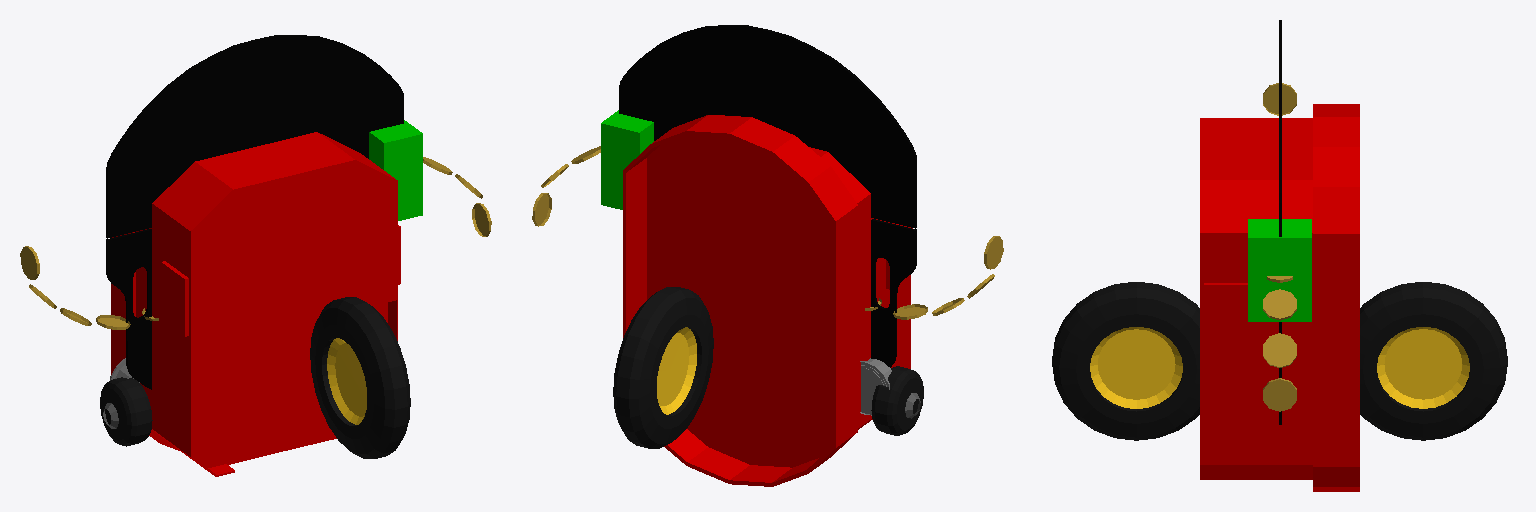
--- Facts derived from the render (not from the file) ---
The picture shows the robot from 3 angles, left to right: view 1: azimuth 30°, elevation 25°; view 2: azimuth 150°, elevation 25°; view 3: azimuth 270°, elevation 25°; orthographic projection.
Robot: pioneer3dx — 14 links, 13 joints (4 continuous, 9 fixed); root link base_link; default pose: every joint at zero.
Visible links, largest first — view 1: chassis, top_plate, right_wheel, camera_link, center_wheel, right_hub, front_sonar, back_sonar; view 2: chassis, top_plate, left_wheel, camera_link, center_wheel, left_hub, front_sonar, swivel, back_sonar; view 3: chassis, left_wheel, right_wheel, right_hub, left_hub, camera_link, back_sonar, front_sonar, top_plate.
Boxes of the visible links, <box> form: chassis: <box>111,132,400,476</box>; top_plate: <box>106,35,403,389</box>; right_wheel: <box>310,297,410,458</box>; camera_link: <box>369,120,422,220</box>; center_wheel: <box>100,377,152,446</box>; right_hub: <box>327,338,366,424</box>; front_sonar: <box>20,246,158,329</box>; back_sonar: <box>423,157,491,236</box>; chassis: <box>623,115,912,486</box>; top_plate: <box>619,25,916,367</box>; left_wheel: <box>613,287,713,448</box>; camera_link: <box>601,110,653,209</box>; center_wheel: <box>871,366,923,435</box>; left_hub: <box>657,327,696,414</box>; front_sonar: <box>865,236,1003,319</box>; swivel: <box>860,358,891,415</box>; back_sonar: <box>532,146,600,226</box>; chassis: <box>1200,104,1359,491</box>; left_wheel: <box>1360,282,1507,440</box>; right_wheel: <box>1052,282,1199,440</box>; right_hub: <box>1090,327,1182,408</box>; left_hub: <box>1377,327,1469,408</box>; camera_link: <box>1248,219,1311,321</box>; back_sonar: <box>1263,276,1296,411</box>; front_sonar: <box>1263,83,1296,115</box>; top_plate: <box>1279,20,1281,424</box>.
Bounding box of the posed robot: 0.5828 × 0.4925 × 0.522 m (x, y, z).
11 mesh visuals loaded from 12 distinct referenced files (11 OBJ); not drawn: 1 (reference not matched to a file when rendering).

URDF robot description (pioneer3dx):
<?xml version="1.0" ?><!-- =================================================================================== --><!-- |    This document was autogenerated by xacro from [local-path]/unity_ws/install/pioneer_description/share/pioneer_description/urdf/pioneer3dx.xacro | --><!-- |    EDITING THIS FILE BY HAND IS NOT RECOMMENDED                                 | --><!-- =================================================================================== --><!-- Adapted from the p2os package, see http://wiki.ros.org/p2os --><!-- Git repository at https://github.com/allenh1/p2os -->
<robot name="pioneer3dx" xmlns:controller="http://playerstage.sourceforge.net/gazebo/xmlschema/#controller"
       xmlns:interface="http://playerstage.sourceforge.net/gazebo/xmlschema/#interface"
       xmlns:sensor="http://playerstage.sourceforge.net/gazebo/xmlschema/#sensor">  <!--<include filename="$(find pioneer_description)/defs/materials.xacro"/>-->
    <material
            name="ChassisRed">
        <color rgba="0.851 0.0 0.0 1.0"/>
    </material>
    <material name="SonarYellow">
        <color
                rgba="0.715 0.583 0.210 1.0"/>
    </material>
    <material name="WheelBlack">
        <color
                rgba="0.117 0.117 0.117 1.0"/>
    </material>
    <material name="HubcapYellow">
        <color
                rgba="1.0 0.811 0.151 1.0"/>
    </material>
    <material name="TopBlack">
        <color
                rgba="0.038 0.038 0.038 1.0"/>
    </material>
    <material name="swivel">
        <color
                rgba="0.5 0.5 0.5 1"/>
    </material>
    <material name="HubcapGrey">
        <color
                rgba="0.4 0.4 0.4 1"/>
    </material>
    <material name="CameraGreen">
        <color
                rgba="0.0 0.8 0.0 1.0"/>
    </material>  <!-- ros_control plugin -->  <!--<gazebo>    <plugin name="differential_drive_controller" filename="libDiffDrivePlugin.so">      <updateRate>100.0</updateRate>      <robotNamespace>pioneer</robotNamespace>      <left_joint>base_left_wheel_joint</left_joint>      <right_joint>base_right_wheel_joint</right_joint>      <torque>200</torque>      <topicName>cmd_vel</topicName>    </plugin>  </gazebo>-->  <!-- START: Not sure if I need this, may allow for rosservice calls to gazebo joint manager -->
    <gazebo>
        <plugin filename="libgazebo_ros_control.so" name="gazebo_ros_control">
            <robotSimType>
                gazebo_ros_control/DefaultRobotHWSim
            </robotSimType>
            <legacyModeNS>true</legacyModeNS>
        </plugin>
    </gazebo>  <!-- END: Not sure if I need this -->
    <gazebo>
        <plugin filename=
                        "libgazebo_ros_diff_drive.so" name="differential_drive_controller">
            <alwaysOn>true</alwaysOn>
            <updateRate>100</updateRate>
            <leftJoint>base_left_wheel_joint</leftJoint>
            <rightJoint>base_right_wheel_joint</rightJoint>
            <torque>5</torque>
            <wheelSeparation>0.39</wheelSeparation>
            <wheelDiameter>0.15</wheelDiameter>
            <commandTopic>pioneer/cmd_vel</commandTopic>
            <odometryTopic>odom</odometryTopic>
            <odometryFrame>odom</odometryFrame>
            <robotBaseFrame>base_link</robotBaseFrame>
            <publishWheelTF>true</publishWheelTF>
            <publishWheelJointState>true</publishWheelJointState>
            <wheelAcceleration>0</wheelAcceleration>
            <wheelTorque>5</wheelTorque>
            <rosDebugLevel>na</rosDebugLevel>
            <legacyMode>true</legacyMode>
        </plugin>
    </gazebo>  <!--<gazebo>    <plugin name="skid_steer_drive_controller" filename="libgazebo_ros_skid_steer_drive.so">      <updateRate>100.0</updateRate>      <robotNamespace>/pioneer</robotNamespace>      <leftFrontJoint>base_left_wheel_joint</leftFrontJoint>      <rightFrontJoint>base_right_wheel_joint</rightFrontJoint>      <leftRearJoint>base_left_wheel_joint</leftRearJoint>      <rightRearJoint>base_right_wheel_joint</rightRearJoint>      <wheelSeparation>0.39</wheelSeparation>      <wheelDiameter>0.15</wheelDiameter>      <robotBaseFrame>base_link</robotBaseFrame>      <torque>200</torque>      <topicName>cmd_vel</topicName>    </plugin>  </gazebo>-->  <!-- Chassis -->
    <gazebo
            reference="chassis">
        <material value="Gazebo/Red"/>
    </gazebo>  <!-- Top -->
    <gazebo
            reference="top_plate">
        <material value="Gazebo/Black"/>
    </gazebo>  <!-- Swivel -->
    <gazebo
            reference="swivel">
        <material value="Gazebo/Grey"/>
    </gazebo>  <!-- Center Wheel + Hubcap -->
    <gazebo
            reference="center_hubcap">
        <material value="Gazebo/Grey"/>
    </gazebo>
    <gazebo
            reference="center_wheel">
        <material value="Gazebo/Black"/>
    </gazebo>
    <gazebo
            reference="left_hub">
        <material value="Gazebo/Yellow"/>
    </gazebo>
    <gazebo
            reference="left_wheel">
        <material value="Gazebo/Black"/>
    </gazebo>
    <gazebo
            reference="right_hub">
        <material value="Gazebo/Yellow"/>
    </gazebo>
    <gazebo
            reference="right_wheel">
        <material value="Gazebo/Black"/>
    </gazebo>  <!-- Front + Back Sonar -->
    <gazebo
            reference="front_sonar">
        <material value="Gazebo/Yellow"/>
    </gazebo>
    <gazebo
            reference="back_sonar">
        <material value="Gazebo/Yellow"/>
    </gazebo>  <!-- camera_link -->
    <gazebo
            reference="camera_link">
        <mu1>0.2</mu1>
        <mu2>0.2</mu2>
        <material
                value="Gazebo/Green"/>
    </gazebo>  <!-- hokuyo -->
    <gazebo reference="laser">
        <sensor
                name="head_hokuyo_sensor" type="ray">
            <pose>0 0 0 0 0 0</pose>
            <visualize>true
            </visualize>
            <update_rate>40</update_rate>
            <ray>
                <scan>
                    <horizontal>
                        <samples>720</samples>
                        <resolution>1</resolution>
                        <min_angle>-3.1415927</min_angle>
                        <max_angle>3.1415927</max_angle>
                    </horizontal>
                </scan>
                <range>
                    <min>0.10</min>
                    <max>30.0</max>
                    <resolution>0.01</resolution>
                </range>
                <noise>
                    <type>gaussian
                    </type>          <!-- Noise parameters based on published spec for Hokuyo laser               achieving "+-30mm" accuracy at range < 10m.  A mean of 0.0m and               stddev of 0.01m will put 99.7% of samples within 0.03m of the true               reading. -->
                    <mean>0.0</mean>
                    <stddev>0.01</stddev>
                </noise>
            </ray>
            <plugin filename="libgazebo_ros_laser.so" name="gazebo_ros_head_hokuyo_controller">
                <topicName>
                    base_scan
                </topicName>
                <frameName>laser</frameName>
            </plugin>
        </sensor>
    </gazebo>  <!-- camera -->
    <gazebo
            reference="camera_link">
        <sensor name="camera" type="camera">
            <update_rate>30.0</update_rate>
            <camera
                    name="head">
                <horizontal_fov>1.3962634</horizontal_fov>
                <image>
                    <width>800</width>
                    <height>800</height>
                    <format>R8G8B8</format>
                </image>
                <clip>
                    <near>0.02</near>
                    <far>300</far>
                </clip>
                <noise
                        type="gaussian">          <!-- Noise is sampled independently per pixel on each frame.                 That pixel's noise value is added to each of its color               channels, which at that point lie in the range [0,1]. -->
                    <mean>
                        0.0
                    </mean>
                    <stddev>0.007</stddev>
                </noise>
            </camera>
            <plugin
                    filename="libgazebo_ros_camera.so" name="camera_controller">
                <alwaysOn>true</alwaysOn>
                <updateRate>
                    0.0
                </updateRate>
                <cameraName>camera</cameraName>
                <imageTopicName>image_raw
                </imageTopicName>
                <cameraInfoTopicName>camera_info</cameraInfoTopicName>
                <frameName>camera_link
                </frameName>
                <hackBaseline>0.07</hackBaseline>
                <distortionK1>0.0</distortionK1>
                <distortionK2>0.0
                </distortionK2>
                <distortionK3>0.0</distortionK3>
                <distortionT1>0.0</distortionT1>
                <distortionT2>
                    0.0
                </distortionT2>
            </plugin>
        </sensor>
    </gazebo>  <!-- Base link to interface with gmapping and move_base -->
    <link
            name="base_link"/>  <!-- Chassis -->
    <joint name="chassis_joint" type="fixed">
        <origin
                rpy="0 0 0" xyz="-0.045 0 0.148"/>
        <parent link="base_link"/>
        <child link="chassis"/>
    </joint>
    <link
            name="chassis">
        <visual name="chassis_visual">
            <origin rpy="0 0 0" xyz="0 0 0"/>
            <geometry
                    name="pioneer_geom">
                <mesh
                        filename="package://pioneer_description/meshes/p3dx_meshes/chassis.obj"/>
            </geometry>
            <material
                    name="ChassisRed"/>
        </visual>
        <collision>
            <origin rpy="0 0 0" xyz="0 0 0"/>
            <geometry>
                <mesh filename=
                              "package://pioneer_description/meshes/p3dx_meshes/chassis.obj"/>        <!--box size="0.43 0.277 0.17"/-->
            </geometry>
        </collision>
        <inertial>
            <mass value="5.67"/>
            <inertia ixx="0.07" ixy="0" ixz="0" iyy="0.08" iyz="0"
                     izz="0.10"/>
        </inertial>
    </link>  <!-- Top -->
    <joint name="base_top_joint" type="fixed">
        <origin
                rpy="0 0 0" xyz="-0.045 0 0.234"/>
        <parent link="base_link"/>
        <child link="top_plate"/>
    </joint>
    <link
            name="top_plate">
        <visual>
            <inertial>
                <mass value="0.01"/>
                <origin xyz="0 0 0"/>
                <inertia ixx="1" ixy="0" ixz="0" iyy="1" iyz="0"
                         izz="1"/>
            </inertial>
            <origin rpy="0 0 0" xyz="0 0 0"/>
            <geometry name="top_geom">
                <mesh filename=
                              "package://pioneer_description/meshes/p3dx_meshes/top.obj"/>
            </geometry>
            <material name="TopBlack"/>
        </visual>
        <collision>
            <origin rpy="0 0 0" xyz="0 0 0"/>
            <geometry>
                <mesh filename=
                              "package://pioneer_description/meshes/p3dx_meshes/top.obj"/>        <!--box size="0.44 0.38 0.005"/-->
            </geometry>
        </collision>
    </link>  <!-- Swivel -->
    <joint name="base_swivel_joint" type="continuous">
        <origin
                rpy="0 0 0" xyz="-0.185 0 0.055"/>
        <axis
                xyz="0 0 1"/>    <!--<anchor xyz="0 0 0"/>  t<limit effort="100" velocity="100" k_velocity="0" />  t<joint_properties damping="0.0" friction="0.0" />-->
        <parent
                link="base_link"/>
        <child link="swivel"/>
    </joint>
    <link name="swivel">
        <inertial>
            <mass value=
                          "0.1"/>
            <origin xyz="0 0 0"/>
            <inertia ixx="0.01" ixy="0" ixz="0" iyy="0.01" iyz="0" izz="0.01"/>
        </inertial>
        <visual name="base_visual">
            <origin rpy="0 0 0" xyz="0 0 0"/>
            <geometry
                    name="pioneer_geom">
                <mesh
                        filename="package://pioneer_description/meshes/p3dx_meshes/swivel.obj"/>
            </geometry>
            <material
                    name="swivel"/>
        </visual>
        <collision>
            <origin rpy="0 0 0" xyz="0 0 0"/>
            <geometry>
                <mesh filename="package://pioneer_description/meshes/p3dx_meshes/swivel.obj"/>
            </geometry>
        </collision>
    </link>  <!-- Center Wheel + Hubcap -->
    <link name="center_hubcap">
        <inertial>
            <mass value=
                          "0.01"/>
            <origin xyz="0 0 0"/>
            <inertia ixx="0.012411765597" ixy="-0.000711733678" ixz="0.00050272983"
                     iyy="0.015218160428" iyz="-0.000004273467" izz="0.011763977943"/>
        </inertial>
        <visual name="base_visual">
            <origin rpy="0 0 0" xyz="0 0 0"/>
            <geometry
                    name="pioneer_geom">
                <mesh
                        filename="package://pioneer_description/meshes/p3dx_meshes/center_hubcap.obj"/>
            </geometry>
            <material
                    name="HubcapGrey"/>
        </visual>
        <collision>
            <origin rpy="0 0 0" xyz="0 0 0"/>
            <geometry>
                <mesh filename="package://pioneer_description/meshes/p3dx_meshes/center_hubcap.obj"/>
            </geometry>
        </collision>
    </link>
    <joint name="swivel_hubcap_joint" type="continuous">
        <origin
                rpy="0 0 0" xyz="-0.026 0 -0.016"/>
        <axis
                xyz="0 1 0"/>    <!--<anchor xyz="0 0 0"/>    <limit effort="1000" velocity="1000" k_velocity="0" />    <joint_properties damping="0.0" friction="0.0" />-->
        <parent
                link="swivel"/>
        <child link="center_wheel"/>
    </joint>
    <link name="center_wheel">
        <inertial>
            <mass
                    value="0.1"/>
            <origin xyz="0 0 0"/>
            <inertia ixx="0.012411765597" ixy="-0.000711733678"
                     ixz="0.00050272983" iyy="0.015218160428" iyz="-0.000004273467" izz="0.011763977943"/>
        </inertial>
        <visual name="base_visual">
            <origin rpy="0 0 0" xyz="0 0 0"/>
            <geometry
                    name="pioneer_geom">
                <mesh
                        filename="package://pioneer_description/meshes/p3dx_meshes/center_wheel.obj"/>
            </geometry>
            <material
                    name="WheelBlack"/>
        </visual>
        <collision>
            <origin rpy="0 0 0" xyz="0 0 0"/>
            <geometry>
                <mesh filename=
                              "package://pioneer_description/meshes/p3dx_meshes/center_wheel.obj"/>        <!--<cylinder radius="0.0375" length="0.03"/>-->
            </geometry>
        </collision>
    </link>
    <joint name="center_wheel_joint" type="fixed">
        <origin
                rpy="0 0 0" xyz="-0.0035 0 -0.001"/>
        <parent link="center_wheel"/>
        <child
                link="center_hubcap"/>
    </joint>  <!-- Left Wheel -->
    <joint
            name="base_left_wheel_joint" type="continuous">
        <origin rpy="0 0 0" xyz="0 0.155 0.093"/>
        <axis
                xyz="0 1 0"/>    <!--<anchor xyz="0 0 0"/>  t<limit effort="1000" velocity="1000" k_velocity="0" />  t<joint_properties damping="0.0" friction="0.0" />-->
        <parent
                link="base_link"/>
        <child link="left_wheel"/>
    </joint>
    <link name="left_wheel">
        <inertial>
            <mass
                    value="0.1"/>
            <origin xyz="0 0 0"/>
            <inertia ixx="0.012411765597" ixy="-0.000711733678"
                     ixz="0.00050272983" iyy="0.015218160428" iyz="-0.000004273467" izz="0.011763977943"/>
        </inertial>
        <visual>
            <origin rpy="0 0 0" xyz="0 0 0"/>
            <geometry>
                <mesh filename="package://pioneer_description/meshes/p3dx_meshes/left_wheel.obj"/>
            </geometry>
            <material name="WheelBlack"/>
        </visual>
        <collision>
            <origin rpy="0 0 0" xyz="0 0 0"/>
            <geometry>
                <mesh filename=
                              "package://pioneer_description/meshes/p3dx_meshes/left_wheel.obj"/>        <!--<cylinder radius="0.092" length="0.04"/>-->
            </geometry>
        </collision>
    </link>
    <joint name="left_wheel_hub_joint" type="fixed">
        <origin
                rpy="0 0 0" xyz="0 0 0"/>
        <parent link="left_wheel"/>
        <child link="left_hub"/>
    </joint>
    <link
            name="left_hub">
        <visual>
            <origin rpy="0 0 0" xyz="0 0 0"/>
            <geometry>
                <mesh filename="package://pioneer_description/meshes/p3dx_meshes/left_hubcap.obj"/>
            </geometry>
            <material name="HubcapYellow"/>
        </visual>
        <collision>
            <origin rpy="0 0 0" xyz="0 0 0"/>
            <geometry>
                <mesh filename="package://pioneer_description/meshes/p3dx_meshes/left_hubcap.obj"/>
            </geometry>
        </collision>
    </link>  <!-- Right Wheel -->
    <joint name="base_right_wheel_joint" type="continuous">
        <origin
                rpy="0 0 0" xyz="0 -0.155 0.093"/>
        <axis
                xyz="0 1 0"/>    <!--<anchor xyz="0 0 0"/>  t<limit effort="1000" velocity="1000" k_velocity="0" />  t<joint_properties damping="0.0" friction="0.0" />-->
        <parent
                link="base_link"/>
        <child link="right_wheel"/>
    </joint>
    <link name="right_wheel">
        <inertial>
            <mass
                    value="0.1"/>
            <origin xyz="0 0 0"/>
            <inertia ixx="0.012411765597" ixy="-0.000711733678"
                     ixz="0.00050272983" iyy="0.015218160428" iyz="-0.000004273467" izz="0.011763977943"/>
        </inertial>
        <visual>
            <origin rpy="0 0 0" xyz="0 0 0"/>
            <geometry>
                <mesh filename="package://pioneer_description/meshes/p3dx_meshes/right_wheel.obj"/>
            </geometry>
            <material name="WheelBlack"/>
        </visual>
        <collision>
            <origin rpy="0 0 0" xyz="0 0 0"/>
            <geometry>
                <mesh filename=
                              "package://pioneer_description/meshes/p3dx_meshes/right_wheel.obj"/>        <!--<cylinder radius="0.092" length="0.04"/>-->
            </geometry>
        </collision>
    </link>
    <joint name="right_wheel_hub_joint" type="fixed">
        <origin
                rpy="0 0 0" xyz="0 0 0"/>
        <parent link="right_wheel"/>
        <child link="right_hub"/>
    </joint>
    <link
            name="right_hub">
        <visual>
            <origin rpy="0 0 0" xyz="0 0 0"/>
            <geometry>
                <mesh filename="package://pioneer_description/meshes/p3dx_meshes/right_hubcap.obj"/>
            </geometry>
            <material name="HubcapYellow"/>
        </visual>
        <collision>
            <origin rpy="0 0 0" xyz="0 0 0"/>
            <geometry>
                <mesh filename="package://pioneer_description/meshes/p3dx_meshes/right_hubcap.obj"/>
            </geometry>
        </collision>
    </link>  <!-- Front + Back Sonar -->
    <link name="front_sonar">
        <inertial>
            <mass value=
                          "0.0001"/>
            <origin xyz="0 0 0"/>
            <inertia ixx="1" ixy="0" ixz="0" iyy="1" iyz="0" izz="1"/>
        </inertial>
        <visual name="base_visual">
            <origin rpy="0 0 0" xyz="0 0 0"/>
            <geometry
                    name="pioneer_geom">
                <mesh
                        filename="package://pioneer_description/meshes/p3dx_meshes/front_sonar.obj"/>
            </geometry>
            <material
                    name="SonarYellow"/>
        </visual>
        <collision>
            <origin rpy="0 0 0" xyz="0 0 0"/>
            <geometry>
                <mesh filename="package://pioneer_description/meshes/p3dx_meshes/front_sonar.obj"/>
            </geometry>
        </collision>
    </link>
    <joint name="base_front_joint" type="fixed">
        <origin
                rpy="0 0 0" xyz="-0.198 0 0.208"/>
        <parent link="base_link"/>
        <child link="front_sonar"/>
    </joint>
    <link
            name="back_sonar">
        <inertial>
            <mass value="0.0001"/>
            <origin xyz="0 0 0"/>
            <inertia ixx="1" ixy="0"
                     ixz="0" iyy="1" iyz="0" izz="1"/>
        </inertial>
        <visual name="back_sonar_vis">
            <origin rpy="0 0 0" xyz="0 0 0"/>
            <geometry
                    name="pioneer_geom">
                <mesh
                        filename="package://pioneer_description/meshes/p3dx_meshes/back_sonar.obj"/>
            </geometry>
            <material
                    name="SonarYellow"/>
        </visual>
        <collision>
            <origin rpy="0 0 0" xyz="0 0 0"/>
            <geometry>
                <mesh filename="package://pioneer_description/meshes/p3dx_meshes/back_sonar.obj"/>
            </geometry>
        </collision>
    </link>
    <joint name="base_back_joint" type="fixed">
        <origin
                rpy="0 0 0" xyz="0.109 0 0.209"/>
        <parent link="base_link"/>
        <child link="back_sonar"/>
    </joint>
    <joint
            name="hokuyo_joint" type="fixed">
        <origin rpy="0 0 0" xyz="0 0 0.085"/>
        <parent
                link="camera_link"/>
        <child link="laser"/>
    </joint>  <!-- Hokuyo Laser -->
    <link name="laser">
        <collision>
            <origin rpy="0 0 0" xyz="0 0 0"/>
            <geometry>
                <mesh filename=
                              "package://pioneer_description/meshes/hokuyo.dae"/>        <!--box size="0.05 0.05 0.071"/-->
            </geometry>
        </collision>
        <visual>
            <origin rpy="0 0 0" xyz="0 0 0"/>
            <geometry>
                <mesh filename="package://pioneer_description/meshes/hokuyo.dae"/>
            </geometry>
        </visual>
        <inertial>
            <mass value="1e-5"/>
            <origin rpy="0 0 0" xyz="0 0 0"/>
            <inertia ixx="1e-6" ixy="0"
                     ixz="0" iyy="1e-6" iyz="0" izz="1e-6"/>
        </inertial>
    </link>
    <joint name="camera_joint" type="fixed">
        <origin
                rpy="0 0 0" xyz="0.17 0 0.0255"/>
        <parent link="top_plate"/>
        <child
                link="camera_link"/>
    </joint>  <!-- Camera -->
    <link name="camera_link">
        <collision>
            <origin rpy="0 0 0"
                    xyz="0 0 0"/>
            <geometry>
                <box size="0.05 0.07 0.10"/>
            </geometry>
        </collision>
        <visual>
            <origin rpy="0 0 0" xyz="0 0 0"/>
            <geometry>
                <box size="0.05 0.07 0.10"/>
            </geometry>
            <material name="CameraGreen"/>
        </visual>
        <inertial>
            <mass value="1e-5"/>
            <origin rpy="0 0 0" xyz="0 0 0"/>
            <inertia ixx="1e-6" ixy="0"
                     ixz="0" iyy="1e-6" iyz="0" izz="1e-6"/>
        </inertial>
    </link>  <!-- START: Not sure if I need this, may allow for rosservice calls to gazebo joint manager -->
    <transmission
            name="tran1">
        <type>transmission_interface/SimpleTransmission</type>
        <joint
                name="base_left_wheel_joint">
            <hardwareInterface>EffortJointInterface
            </hardwareInterface>
        </joint>
        <actuator name="motor1">
            <hardwareInterface>EffortJointInterface
            </hardwareInterface>
            <mechanicalReduction>1</mechanicalReduction>
        </actuator>
    </transmission>
    <transmission
            name="tran2">
        <type>transmission_interface/SimpleTransmission</type>
        <joint
                name="base_right_wheel_joint">
            <hardwareInterface>EffortJointInterface
            </hardwareInterface>
        </joint>
        <actuator name="motor2">
            <hardwareInterface>EffortJointInterface
            </hardwareInterface>
            <mechanicalReduction>1
            </mechanicalReduction>
        </actuator>
    </transmission>  <!-- END: Not sure if I need this -->
</robot>
